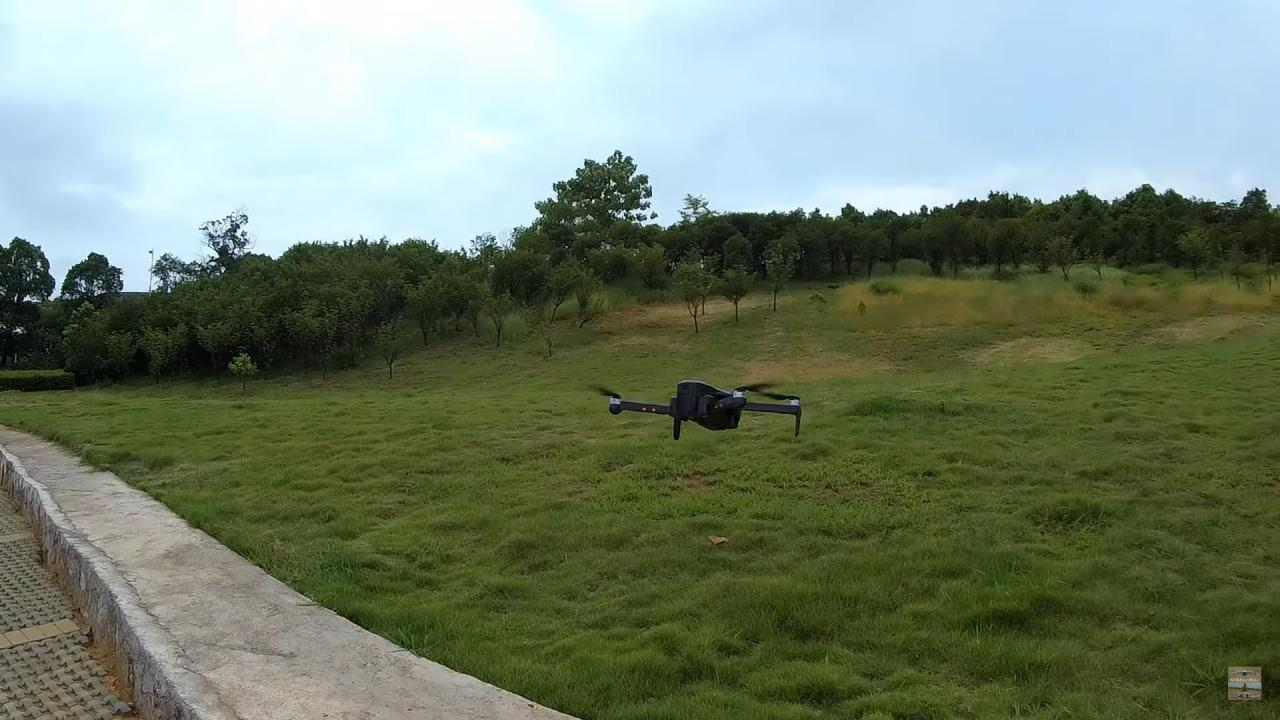Drone: (570, 366, 818, 459)
